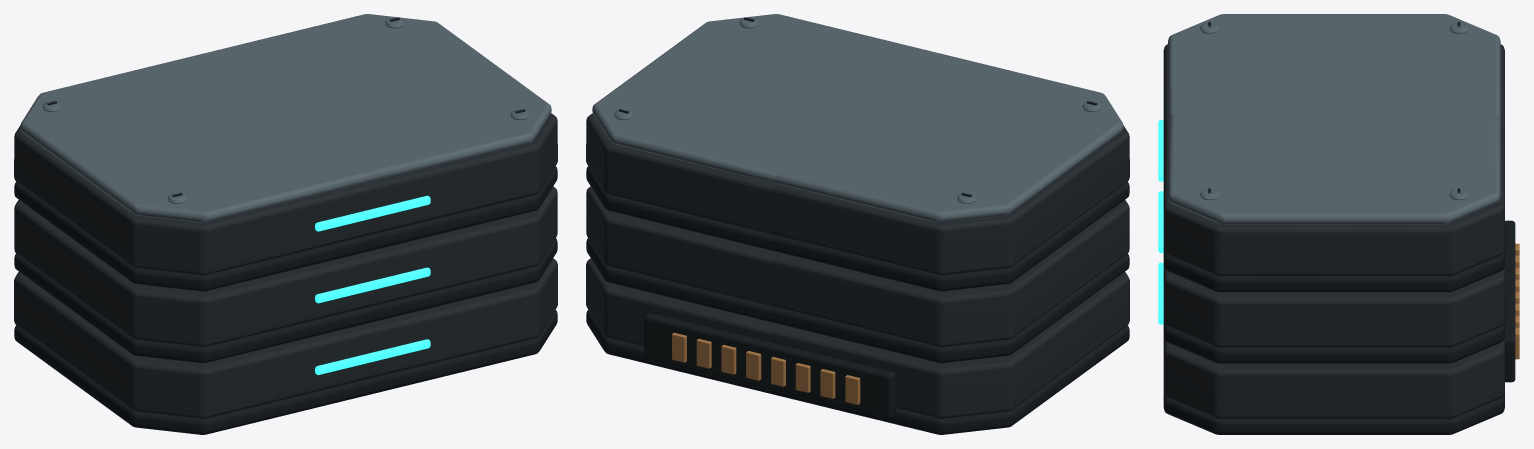
File: high_density_battery_pack.glb
3 renders of one model, left to right at view 1: azimuth 30°, elevation 25°; view 2: azimuth 150°, elevation 25°; view 3: azimuth 270°, elevation 25°, orthographic.
Visible parts, largest first — view 1: BatteryLid, BatteryLayer.001, BatteryLayer, BatteryLayer.002, BatteryIsolation.002, BatteryIsolation, BatteryIsolation.001, BatteryChargeGauge.001, BatteryChargeGauge.002, BatteryChargeGauge; view 2: BatteryLid, BatteryLayer.001, BatteryLayer.002, BatteryLayer, BatteryIsolation.002, ConnectorRecess, BatteryIsolation.001, BatteryIsolation, GoldContact.006, GoldContact.005, GoldContact.007, GoldContact.004; view 3: BatteryLid, BatteryLayer.002, BatteryLayer.001, BatteryLayer, BatteryIsolation.002, BatteryIsolation.001, BatteryIsolation, ConnectorRecess, BatteryChargeGauge, BatteryChargeGauge.001, BatteryChargeGauge.002.
Boxes of the visible parts, box(x1,y1,x2,y2) form: BatteryLid: box(20, 14, 551, 222); BatteryLayer.001: box(14, 186, 557, 347); BatteryLayer: box(14, 258, 557, 418); BatteryLayer.002: box(14, 113, 557, 275); BatteryIsolation.002: box(14, 166, 557, 291); BatteryIsolation: box(14, 310, 557, 434); BatteryIsolation.001: box(14, 238, 557, 363); BatteryChargeGauge.001: box(315, 267, 430, 303); BatteryChargeGauge.002: box(315, 195, 430, 231); BatteryChargeGauge: box(315, 339, 430, 374); BatteryLid: box(592, 14, 1123, 222); BatteryLayer.001: box(586, 186, 1129, 347); BatteryLayer.002: box(586, 113, 1129, 275); BatteryLayer: box(586, 258, 1129, 418); BatteryIsolation.002: box(586, 166, 1129, 291); ConnectorRecess: box(644, 313, 895, 418); BatteryIsolation.001: box(586, 238, 1129, 363); BatteryIsolation: box(586, 310, 1129, 434); GoldContact.006: box(696, 339, 835, 398); GoldContact.005: box(721, 345, 810, 392); GoldContact.007: box(672, 332, 860, 404); GoldContact.004: box(746, 351, 785, 386); BatteryLid: box(1168, 14, 1500, 224); BatteryLayer.002: box(1163, 44, 1504, 276); BatteryLayer.001: box(1163, 265, 1504, 347); BatteryLayer: box(1163, 337, 1504, 418); BatteryIsolation.002: box(1163, 250, 1504, 292); BatteryIsolation.001: box(1163, 321, 1504, 363); BatteryIsolation: box(1163, 392, 1504, 434); ConnectorRecess: box(1505, 220, 1515, 382); BatteryChargeGauge: box(1158, 262, 1163, 324); BatteryChargeGauge.001: box(1158, 191, 1163, 253); BatteryChargeGauge.002: box(1158, 119, 1163, 181).
Size of the model in its own units: 1.12 by 0.57 by 0.8255.
